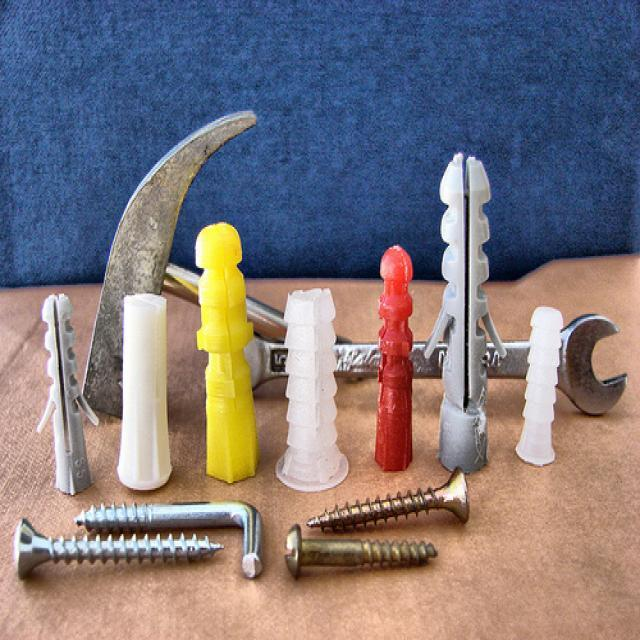hammer: (74, 88, 282, 438)
wrench: (242, 314, 632, 426)
